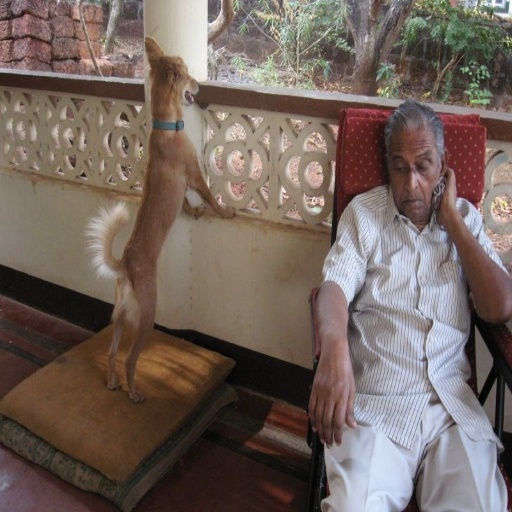hand: (304, 336, 375, 461), (434, 166, 458, 226)
